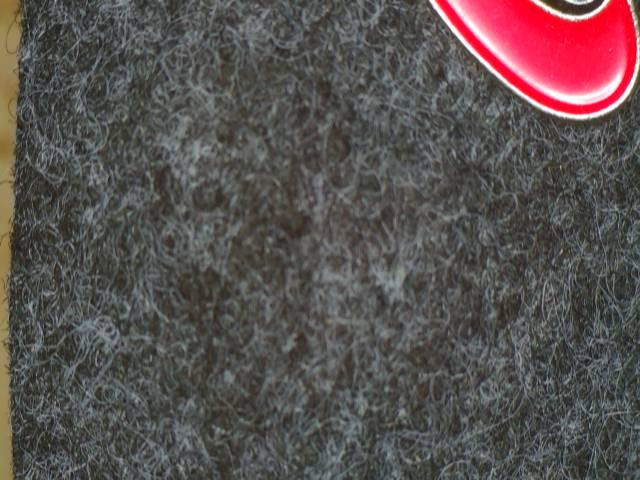Red-Hat: (396, 0, 640, 133)
